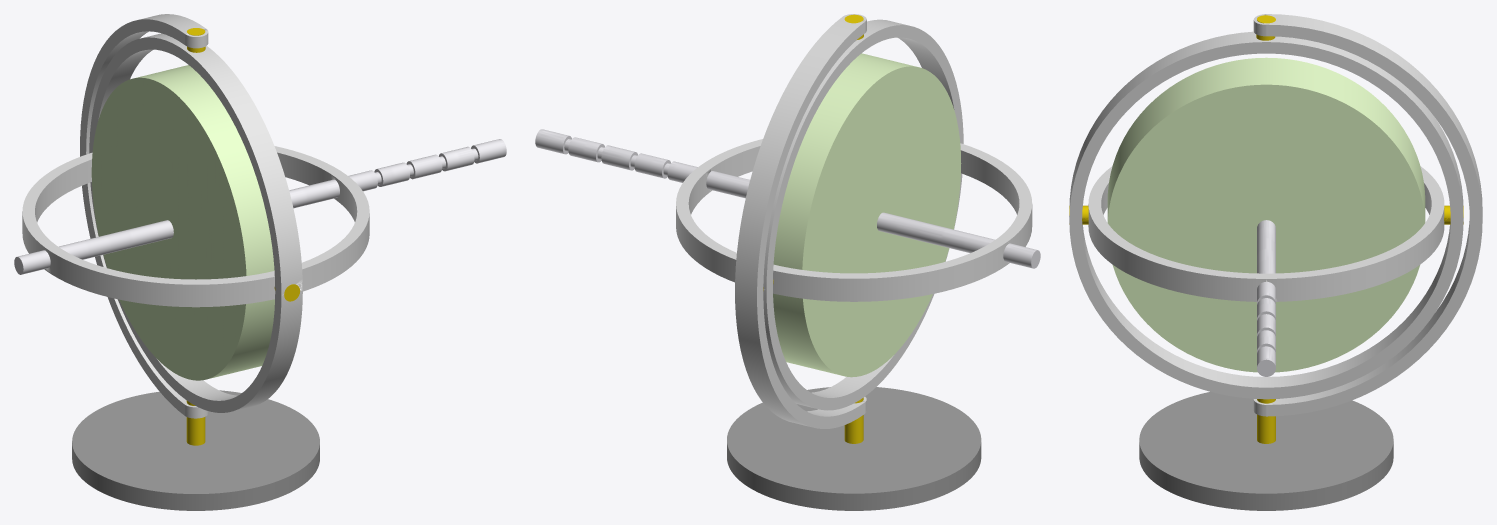
File: gyroscopeglb.gltf
3 renders of one model, left to right at view 1: azimuth 30°, elevation 25°; view 2: azimuth 150°, elevation 25°; view 3: azimuth 270°, elevation 25°, orthographic. The views are drawn at different scales.
Parts seen in each view (by area): view 1: instance_1, instance_6, instance_2.001, instance_3, Difference, instance_0, instance_3.001, instance_2, instance_0.004, instance_0.006, instance_0.002, instance_0.008 (+1 smaller); view 2: instance_1, instance_6, Difference, instance_3, instance_2.001, instance_0, instance_3.001, instance_2, instance_0.002, instance_0.004, instance_0.006, instance_0.008; view 3: instance_1, instance_6, instance_2.001, Difference, instance_3, instance_2, instance_0, instance_5, instance_0.008.
Part boxes in pixels (x1,y1,x2,y2): instance_1: (91,65,274,380); instance_6: (72,390,319,510); instance_2.001: (89,33,302,412); instance_3: (22,146,369,307); Difference: (80,14,208,418); instance_0: (14,170,377,274); instance_3.001: (35,152,357,222); instance_2: (98,49,237,400); instance_0.004: (406,154,442,179); instance_0.006: (439,146,474,171); instance_0.002: (374,162,409,186); instance_0.008: (471,139,506,163); instance_1: (773,53,961,377); instance_6: (727,387,981,510); Difference: (735,14,866,428); instance_3: (676,139,1032,301); instance_2.001: (763,19,963,410); instance_0: (667,161,1040,268); instance_3.001: (688,146,1019,214); instance_2: (811,37,954,397); instance_0.002: (634,153,670,178); instance_0.004: (601,145,637,170); instance_0.006: (568,137,604,162); instance_0.008: (535,129,571,154); instance_1: (1107,57,1425,372); instance_6: (1139,391,1393,510); instance_2.001: (1069,31,1463,399); Difference: (1253,14,1482,416); instance_3: (1088,166,1444,301); instance_2: (1082,221,1450,387); instance_0: (1257,220,1275,304); instance_5: (1257,399,1275,443); instance_0.008: (1257,346,1275,376).
Size of the model in its own units: 3.54 by 2.99 by 2.56.
Materials: 5 (1 with a texture image).
